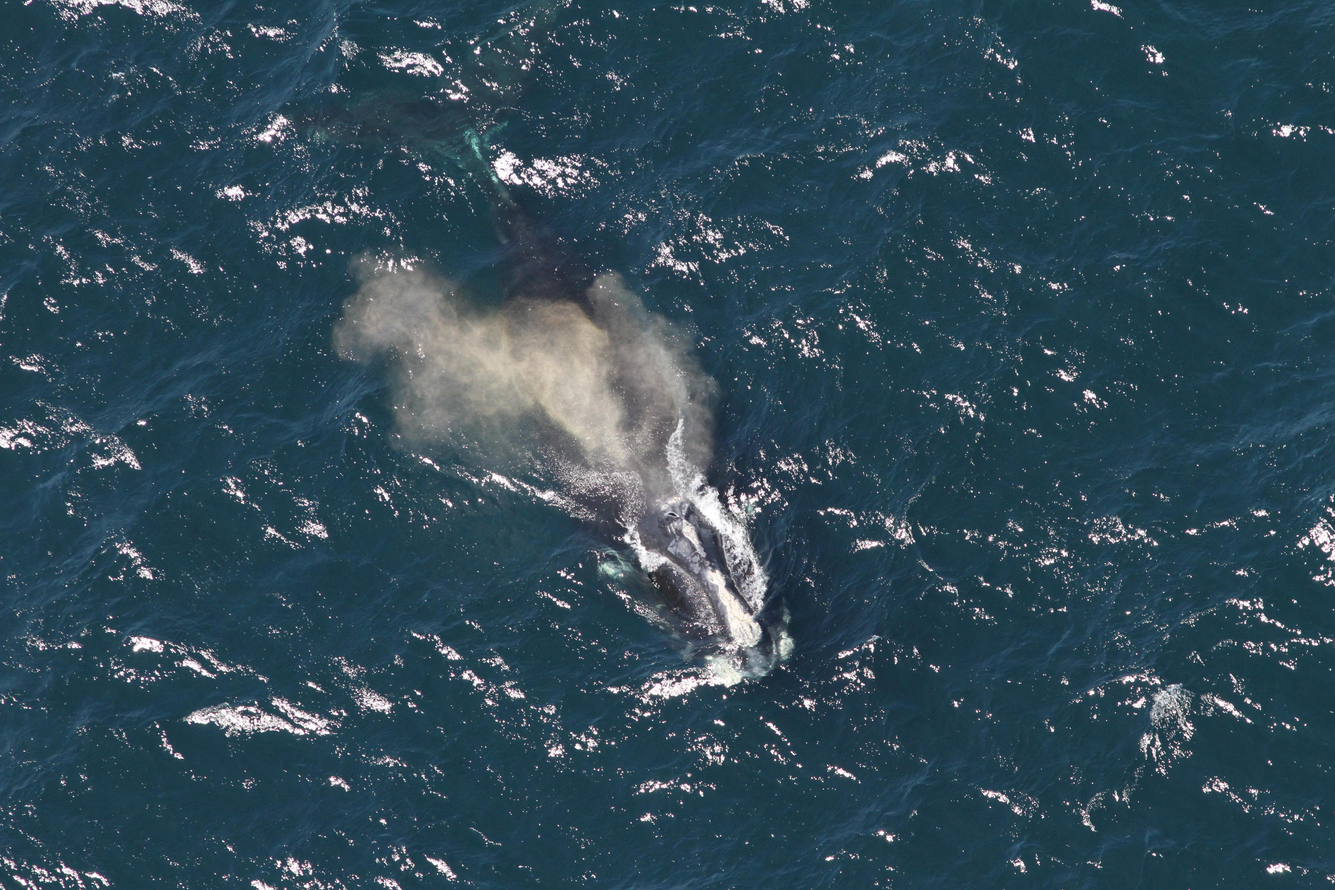whale: (293, 8, 801, 688)
